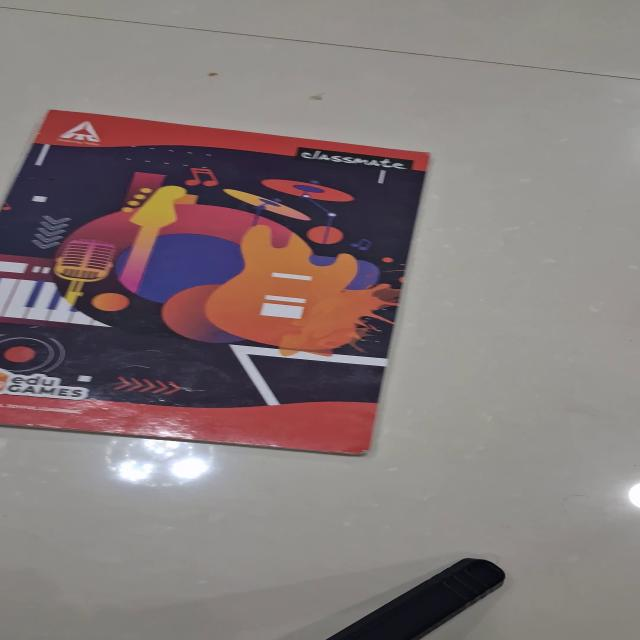paper: (1, 109, 430, 456)
